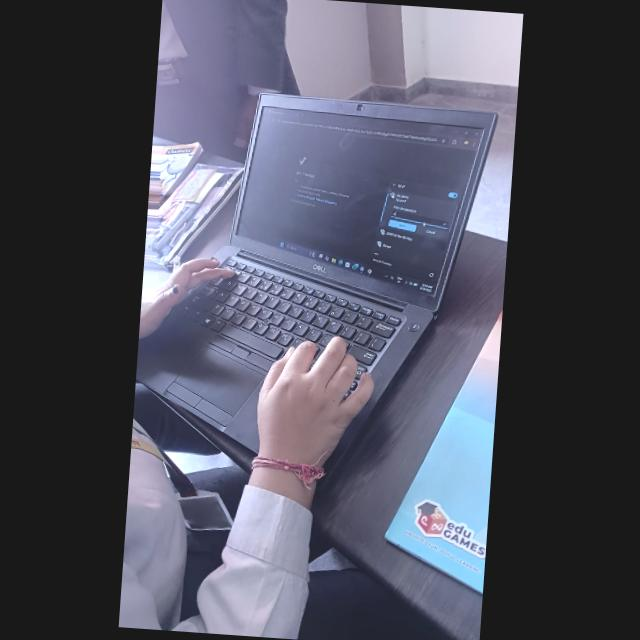laptop: (135, 75, 501, 450)
